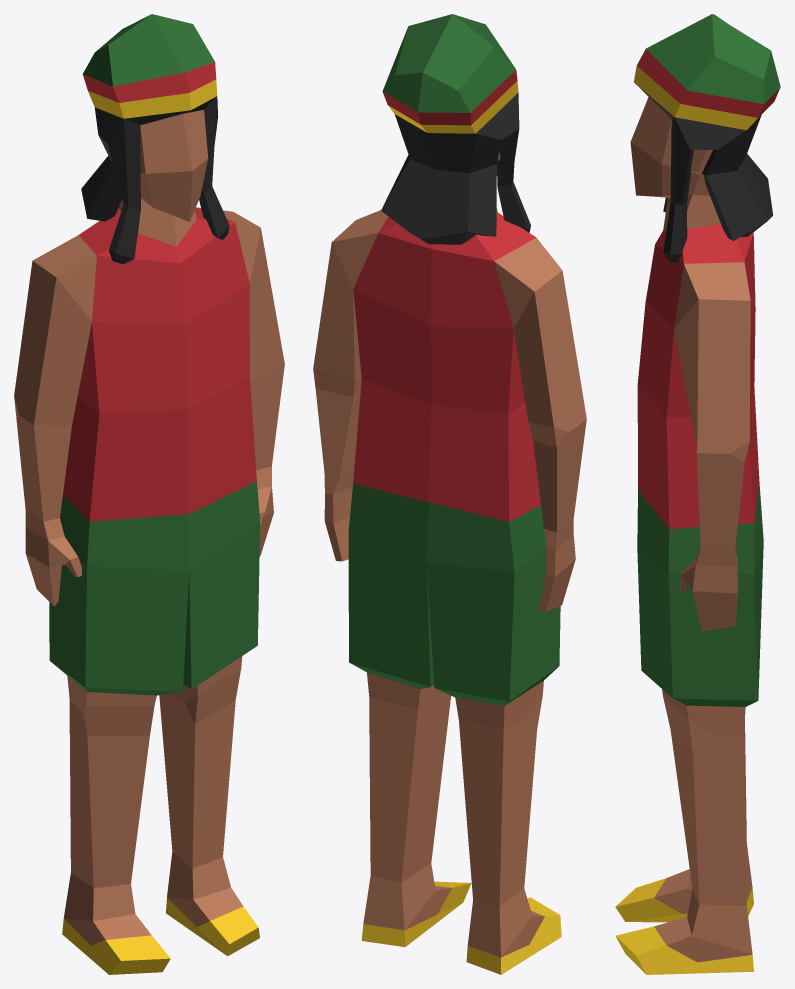
File: man-jamaica.glb
3 views of the same model, side by side, from view 1: azimuth 30°, elevation 25°; view 2: azimuth 150°, elevation 25°; view 3: azimuth 270°, elevation 25° (orthographic).
Parts seen in each view (by area): view 1: man-jamaica; view 2: man-jamaica; view 3: man-jamaica.
Boxes of the visible parts, left/top/right/bottom form: man-jamaica: left=14, top=14, right=284, bottom=974; man-jamaica: left=313, top=14, right=586, bottom=974; man-jamaica: left=615, top=14, right=780, bottom=974.
Size of the model in its own units: 0.5526 by 1.93 by 0.3136.
Materials: 1 (1 with a texture image).
